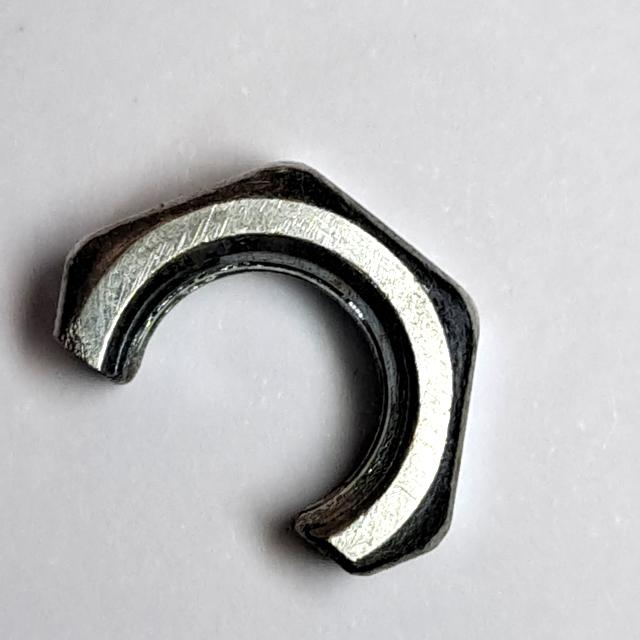Fracture: (42, 151, 488, 590)
